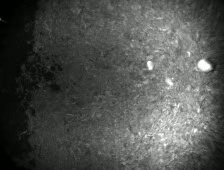corn: (196, 56, 214, 74), (145, 59, 155, 72)
